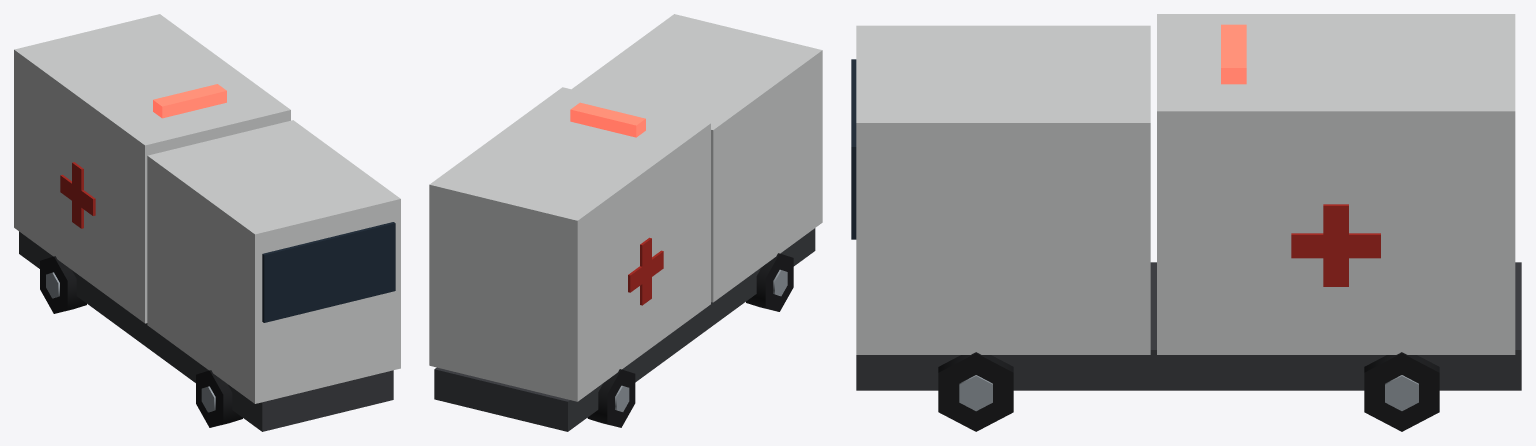
The model's file is veh_ground_ambulance_a08_lod1.glb.
3 renders of one model, left to right at view 1: azimuth 30°, elevation 25°; view 2: azimuth 150°, elevation 25°; view 3: azimuth 270°, elevation 25°, orthographic. The views are drawn at different scales.
Parts seen in each view (by area): view 1: body, wheel_0, wheel_2; view 2: body, wheel_0, wheel_2; view 3: body, wheel_3, wheel_1.
Part boxes in pixels (bbox=[...]): body: bbox=[14, 14, 400, 431]; wheel_0: bbox=[40, 256, 86, 313]; wheel_2: bbox=[196, 370, 242, 427]; body: bbox=[429, 14, 822, 431]; wheel_0: bbox=[587, 369, 635, 427]; wheel_2: bbox=[746, 253, 793, 311]; body: bbox=[851, 14, 1521, 390]; wheel_3: bbox=[938, 352, 1013, 431]; wheel_1: bbox=[1364, 352, 1439, 431].
Size of the model in its own units: 1.88 by 2.9 by 5.24.
